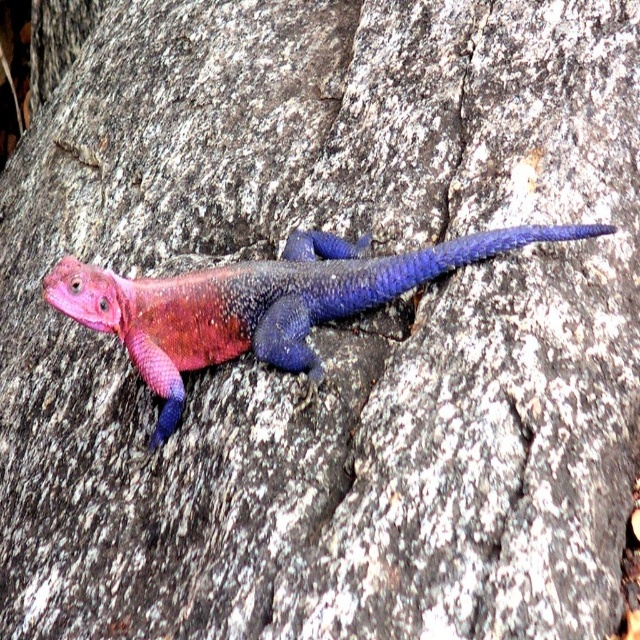Lizard: (66, 184, 624, 455)
